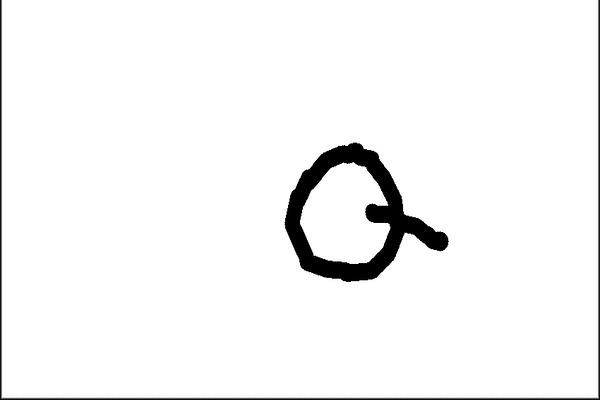Q: (268, 132, 447, 285)
